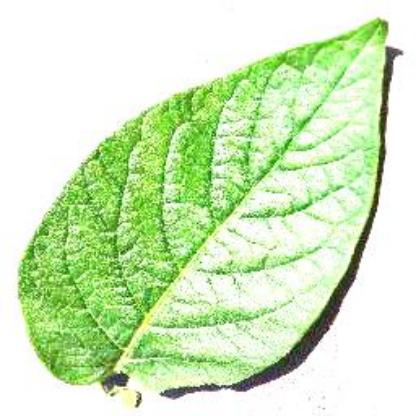Healthy-plant: (12, 15, 392, 399)
